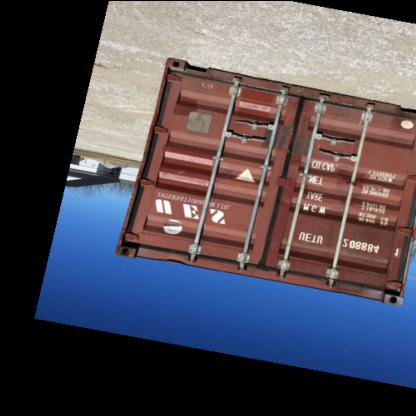Damage: (260, 118, 318, 158), (385, 108, 415, 137), (113, 233, 142, 259), (166, 246, 198, 268), (382, 278, 402, 304), (199, 76, 222, 96), (279, 197, 297, 216), (172, 168, 190, 186)
